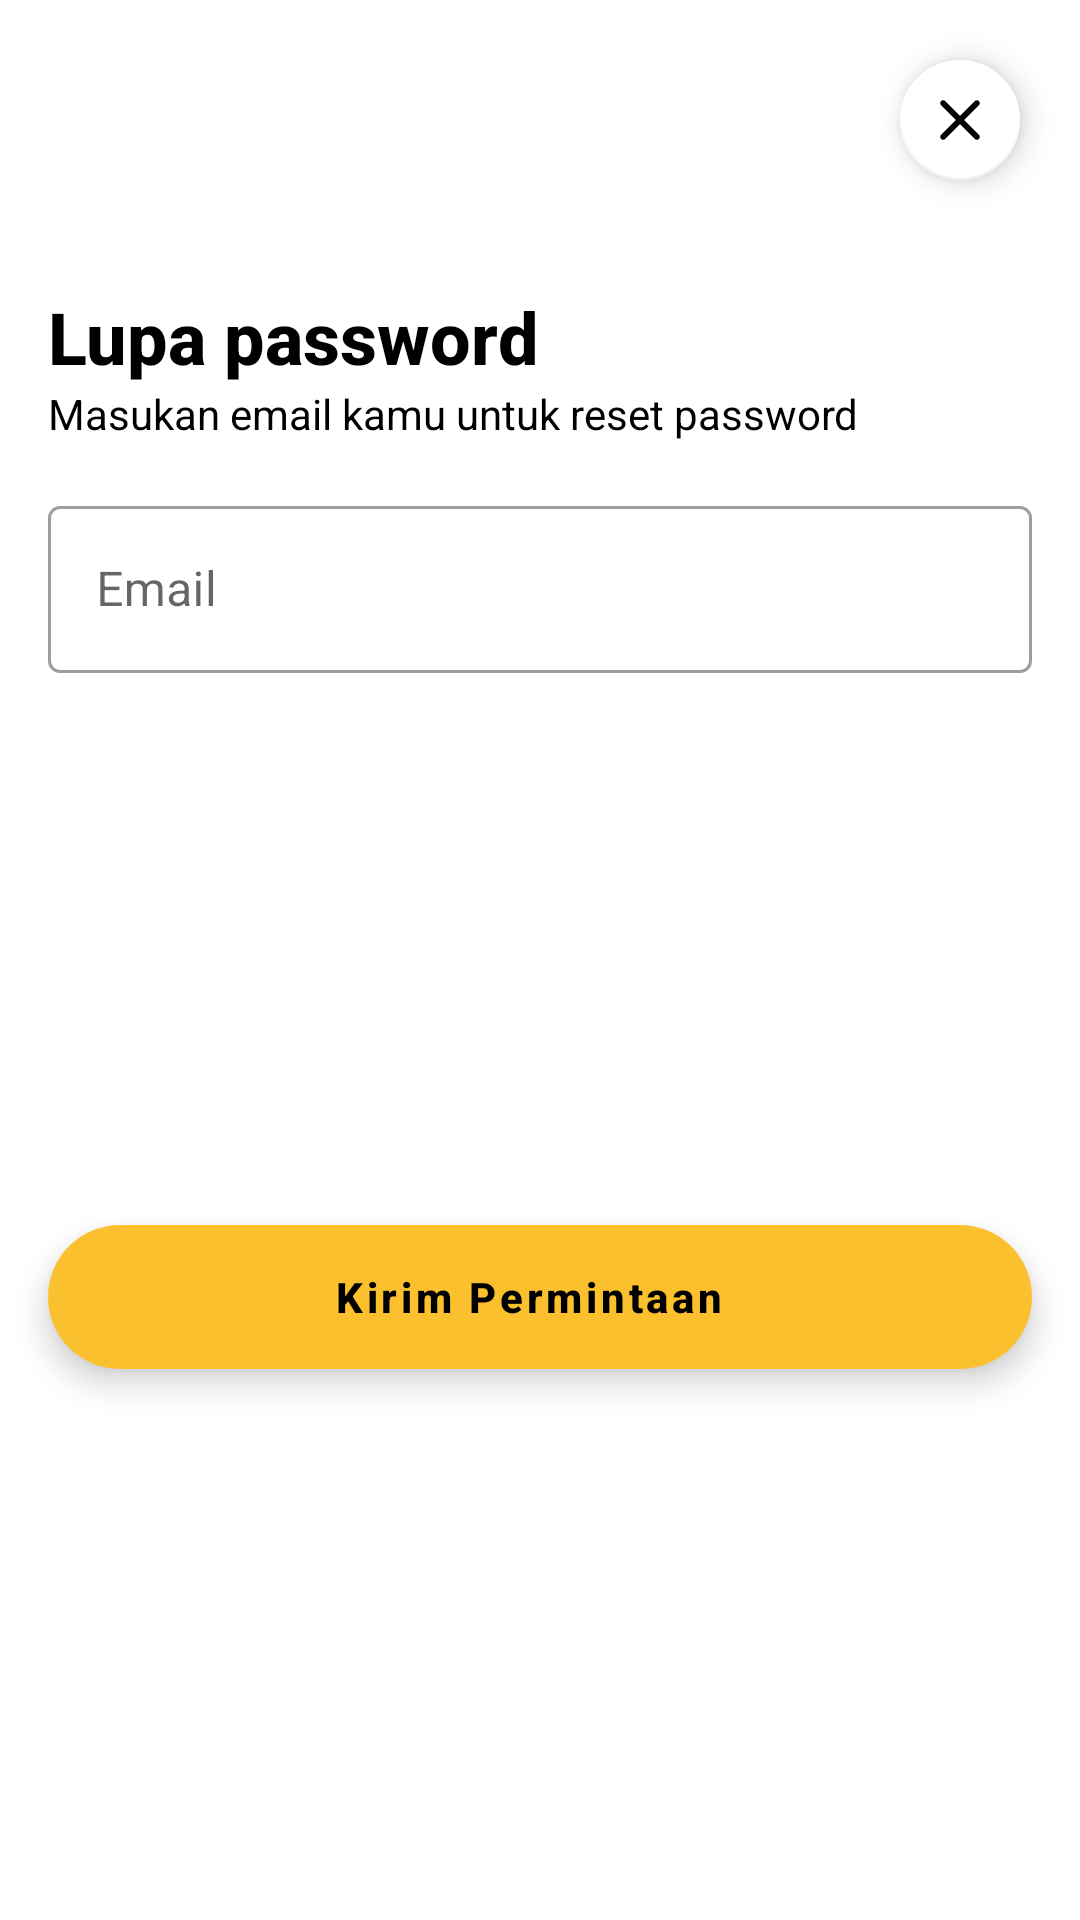

Locate icon controls on the screen. Image size 1080x1920, boxes as (x1, y1, x2, y2).
close: (940, 69, 1022, 180)
